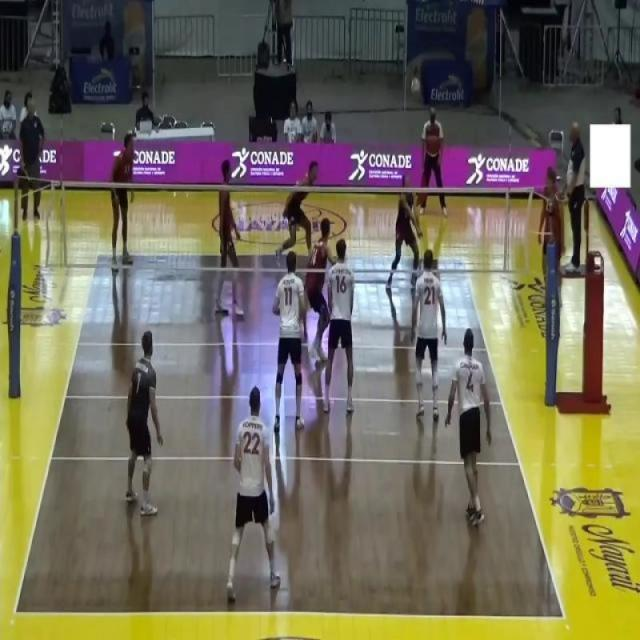volleyball: (410, 76, 421, 94)
